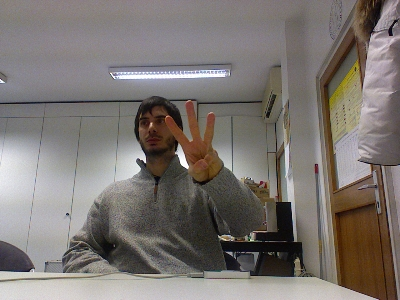三分: (163, 98, 224, 183)
